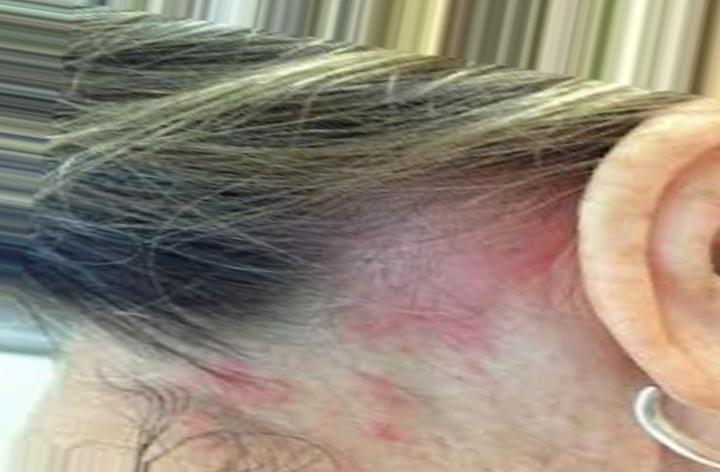Contact Dermatitis: (276, 159, 555, 405)
